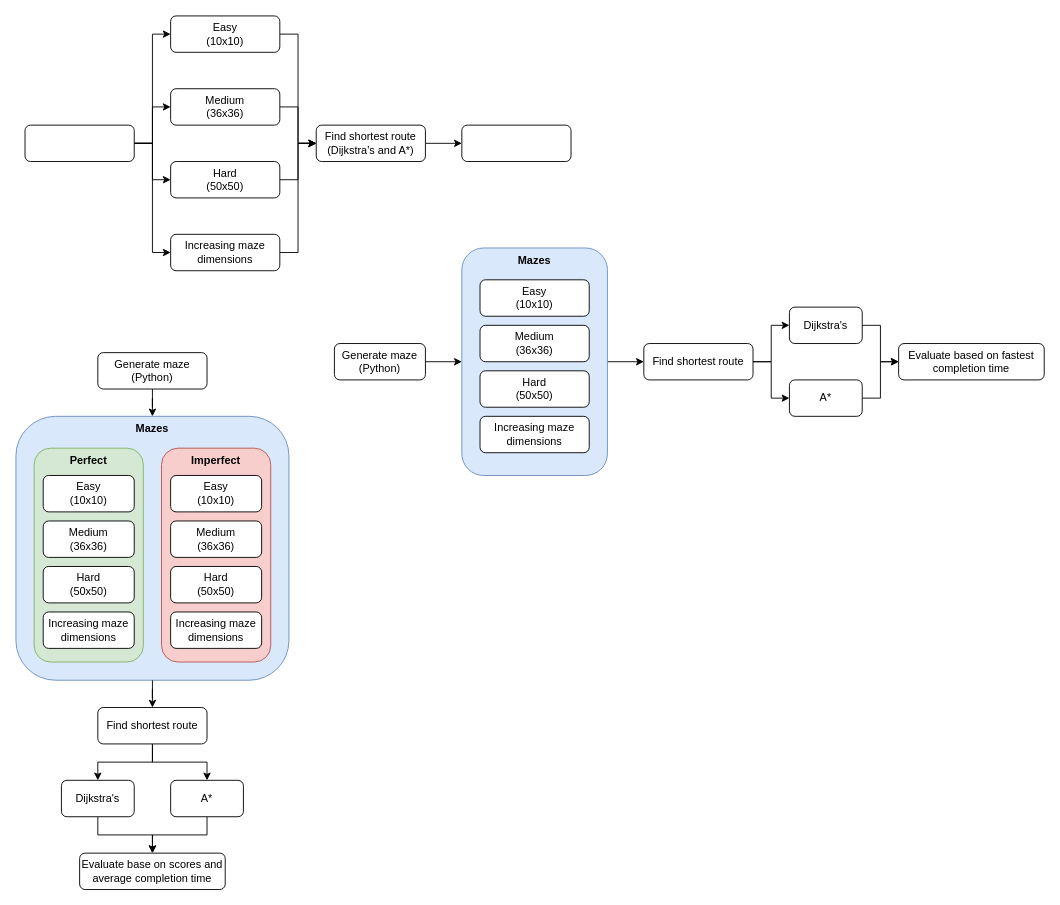
This 1060x905 diagram has some shape labels left out. Here are the shapes that lost their labels. From the top down, the centre of each, then its label:
At [79,143]: "Generate Mazes (Python)".
At [516,143]: "Evaluate based on completion time".
